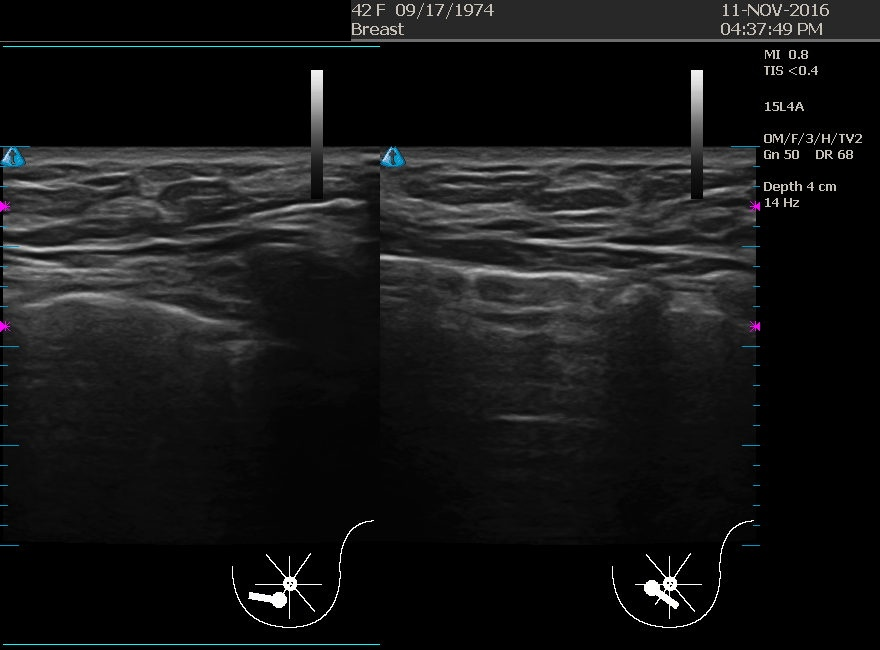Benign: (82, 155, 282, 355), (467, 161, 667, 361)
